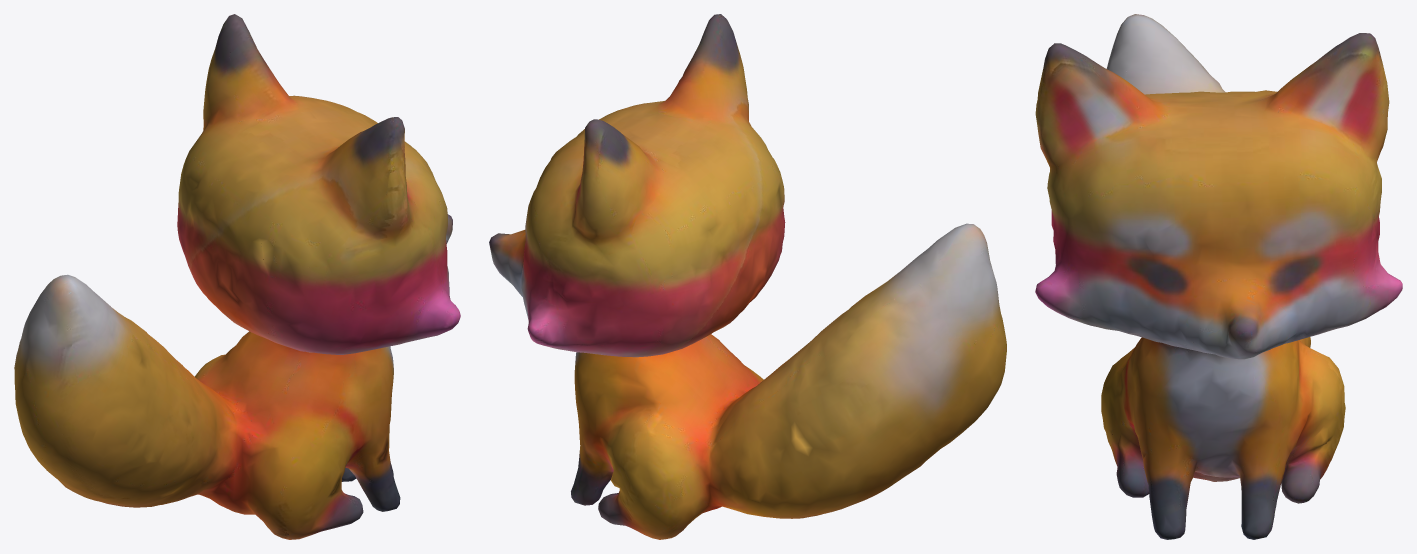
Rendered from a_cute_fox_popmart_toy.fbx.
3 views of the same model, side by side, from view 1: azimuth 30°, elevation 25°; view 2: azimuth 150°, elevation 25°; view 3: azimuth 270°, elevation 25° (orthographic). The views are drawn at different scales.
Visible parts, largest first — view 1: Mesh1; view 2: Mesh1; view 3: Mesh1.
Boxes of the visible parts, x1,y1,x2,y2 form: Mesh1: (14,14,460,539); Mesh1: (489,14,1006,539); Mesh1: (1035,14,1402,539).
Bounding box in the file's own units: 120 × 107 × 75.58.
1 material, 1 textured.
